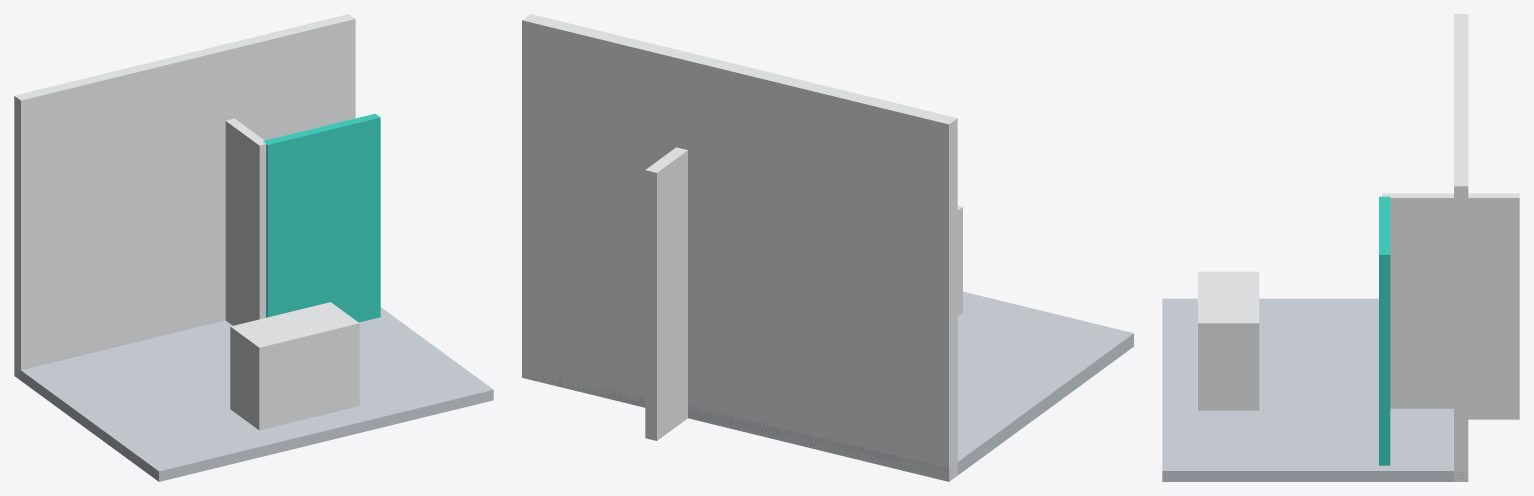
3 views of the same model, side by side, from view 1: azimuth 30°, elevation 25°; view 2: azimuth 150°, elevation 25°; view 3: azimuth 270°, elevation 25° (orthographic). The views are drawn at different scales.
Parts seen in each view (by area): view 1: Exhibition Booth Concept; view 2: Exhibition Booth Concept; view 3: Exhibition Booth Concept.
Boxes of the visible parts, bbox=[...] form: Exhibition Booth Concept: bbox=[14, 14, 493, 481]; Exhibition Booth Concept: bbox=[522, 14, 1133, 481]; Exhibition Booth Concept: bbox=[1162, 14, 1519, 481].
Bounding box in the file's own units: 4 × 3.2 × 3.51.
